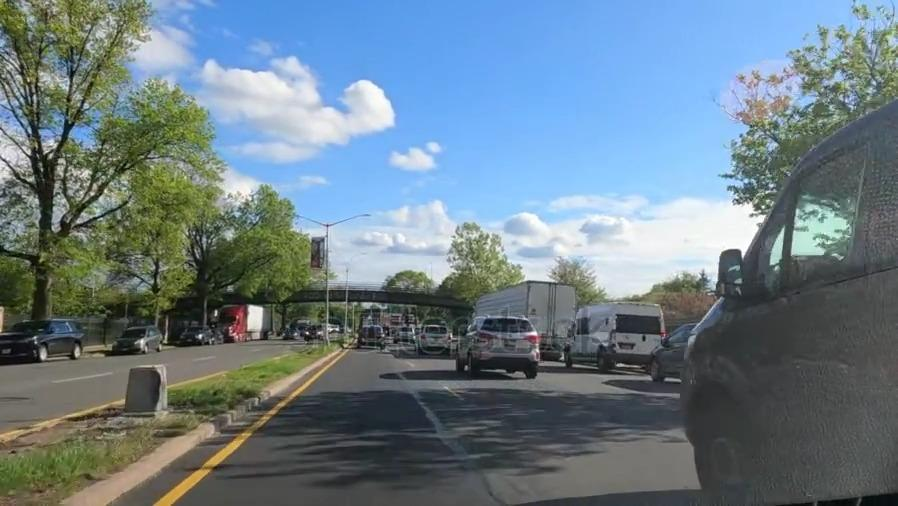car: (457, 315, 535, 376), (5, 319, 87, 367), (649, 323, 691, 371), (109, 327, 163, 351), (415, 320, 447, 355), (357, 321, 381, 350), (180, 327, 207, 343)
truck: (469, 283, 577, 327)
van: (689, 121, 898, 494), (568, 299, 652, 367)
wheel: (687, 392, 758, 506)
